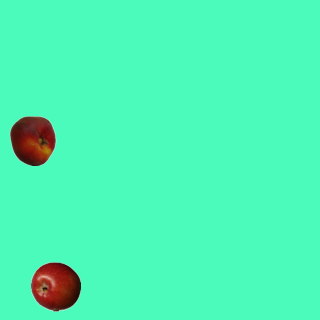Apple Braeburn: (30, 261, 80, 311)
Nectarine Flat: (7, 115, 57, 165)
